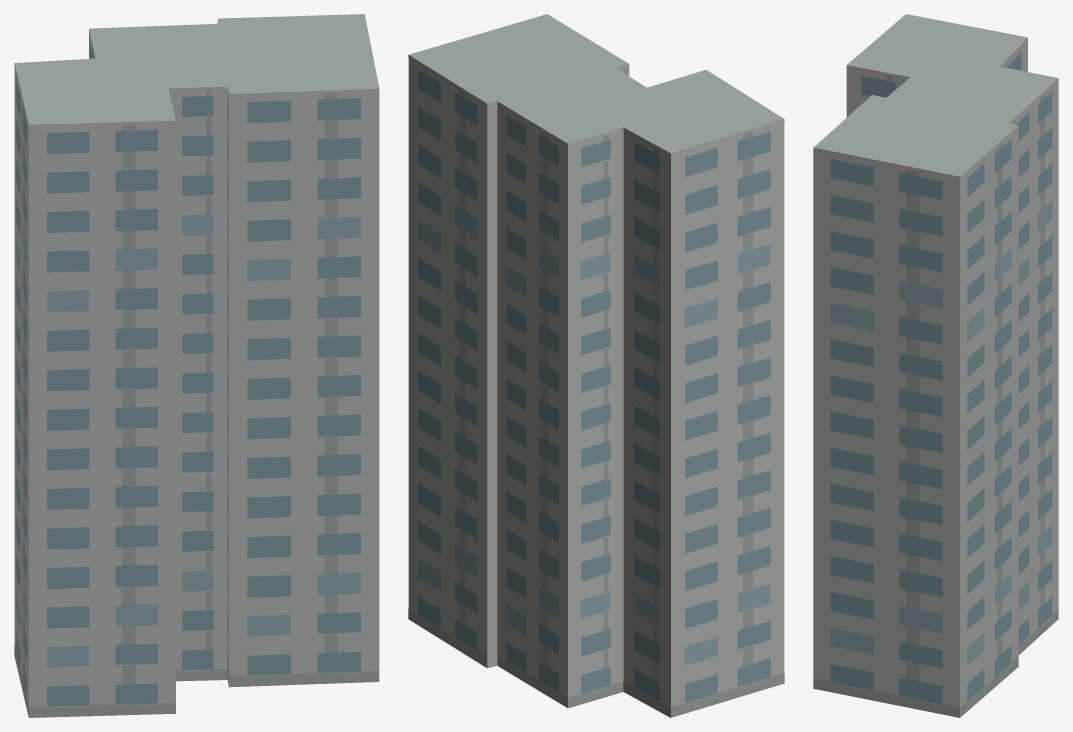
File: survey-upis-32635119.glb
The picture shows the model from 3 angles, left to right: view 1: azimuth 30°, elevation 25°; view 2: azimuth 150°, elevation 25°; view 3: azimuth 270°, elevation 25°; orthographic projection. The views are drawn at different scales.
Parts seen in each view (by area): view 1: survey-upis-32635119.tmp; view 2: survey-upis-32635119.tmp; view 3: survey-upis-32635119.tmp.
Part boxes in pixels (x1,y1,x2,y2): survey-upis-32635119.tmp: (14, 14, 379, 717); survey-upis-32635119.tmp: (408, 14, 784, 717); survey-upis-32635119.tmp: (813, 14, 1058, 717).
Size of the model in its own units: 29.51 by 45.75 by 18.78.
